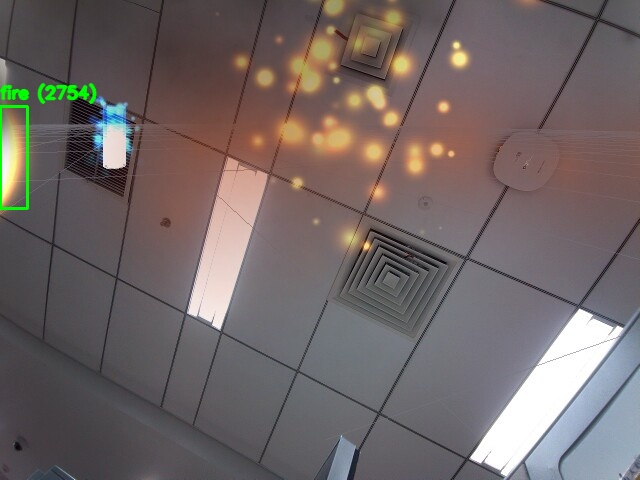fire: (0, 106, 27, 208)
